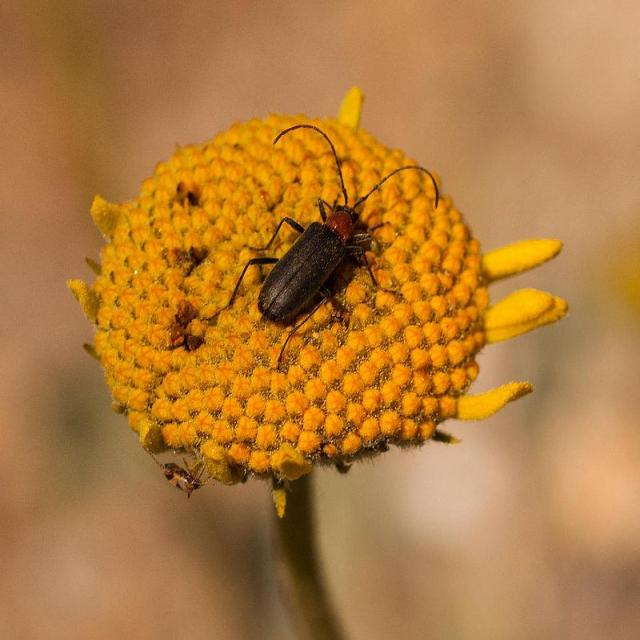BlisterBeetle-Adult-: (219, 116, 448, 347)
